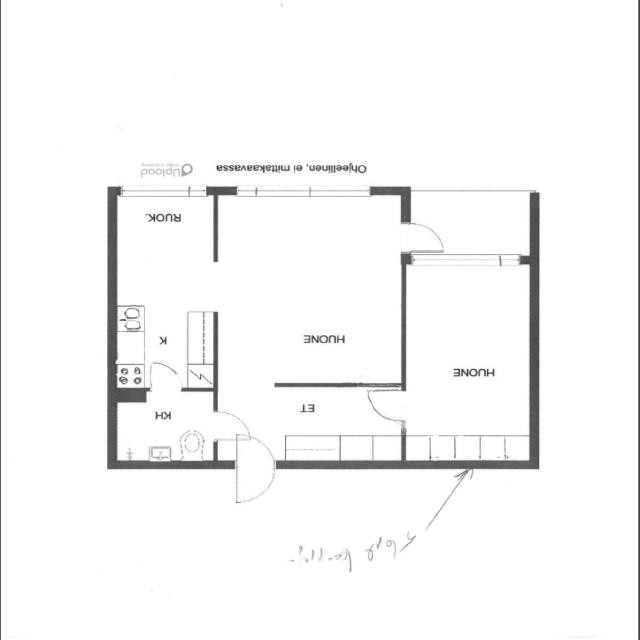door: (113, 388, 219, 466), (228, 431, 278, 508), (362, 384, 411, 428), (399, 220, 450, 254), (209, 407, 250, 443), (143, 360, 186, 394)
window: (228, 181, 379, 203), (410, 250, 527, 270), (114, 180, 213, 202)
zone: (214, 190, 408, 390), (401, 258, 534, 463), (110, 192, 219, 380), (224, 382, 407, 466), (111, 390, 218, 464)
